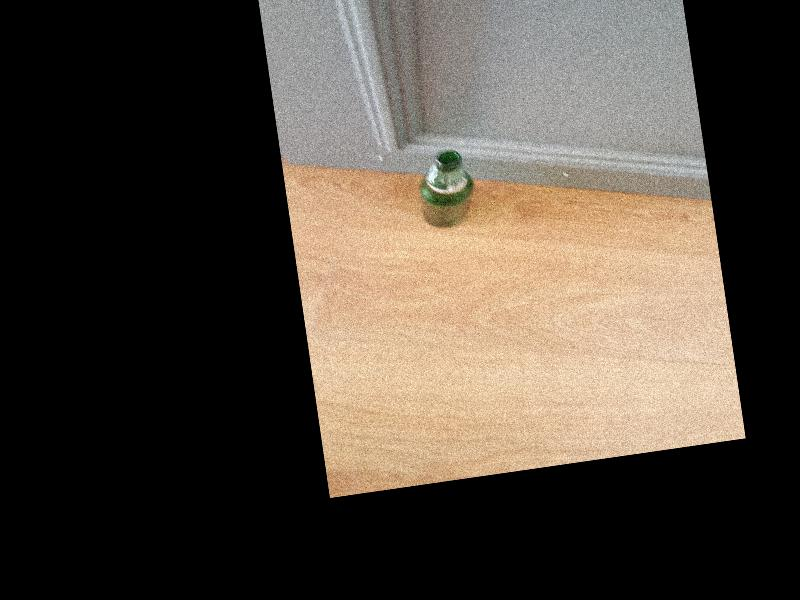Beer: (415, 148, 478, 230)
